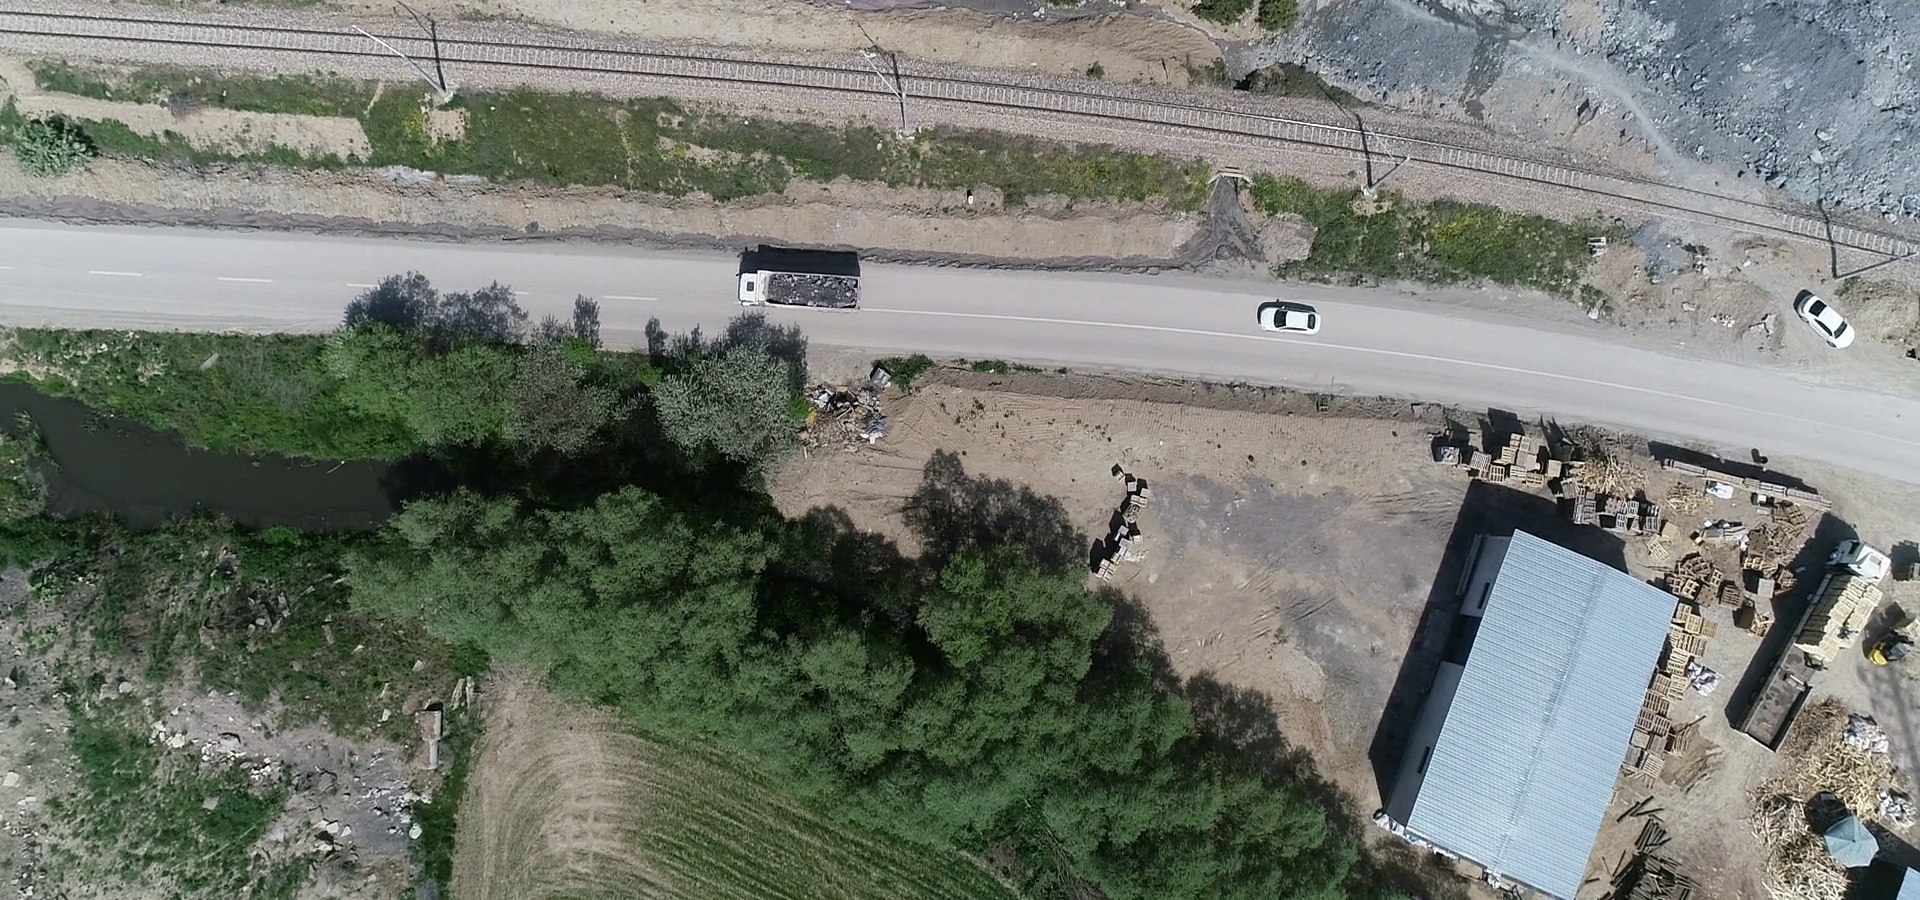araba: (1789, 283, 1854, 358), (1254, 299, 1320, 347)
kamyon: (1729, 536, 1907, 753), (729, 264, 874, 316)
